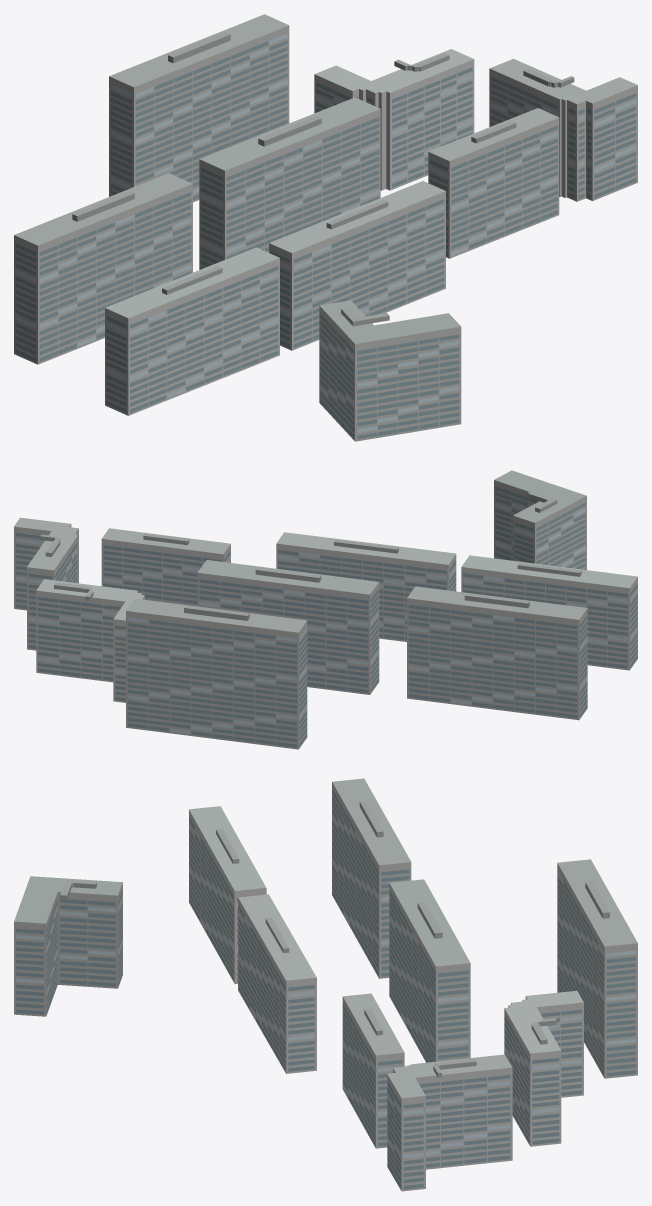
File: apt-a13302001.glb
3 renders of one model, top to bottom at view 1: azimuth 30°, elevation 25°; view 2: azimuth 150°, elevation 25°; view 3: azimuth 270°, elevation 25°, orthographic. The views are drawn at different scales.
Visible parts, largest first — view 1: apt-a13302001; view 2: apt-a13302001; view 3: apt-a13302001.
Part boxes in pixels (<box>): apt-a13302001: <box>14,14,637,441</box>; apt-a13302001: <box>14,470,637,749</box>; apt-a13302001: <box>14,778,637,1191</box>.
Bounding box in the file's own units: 270 × 58 × 238.
